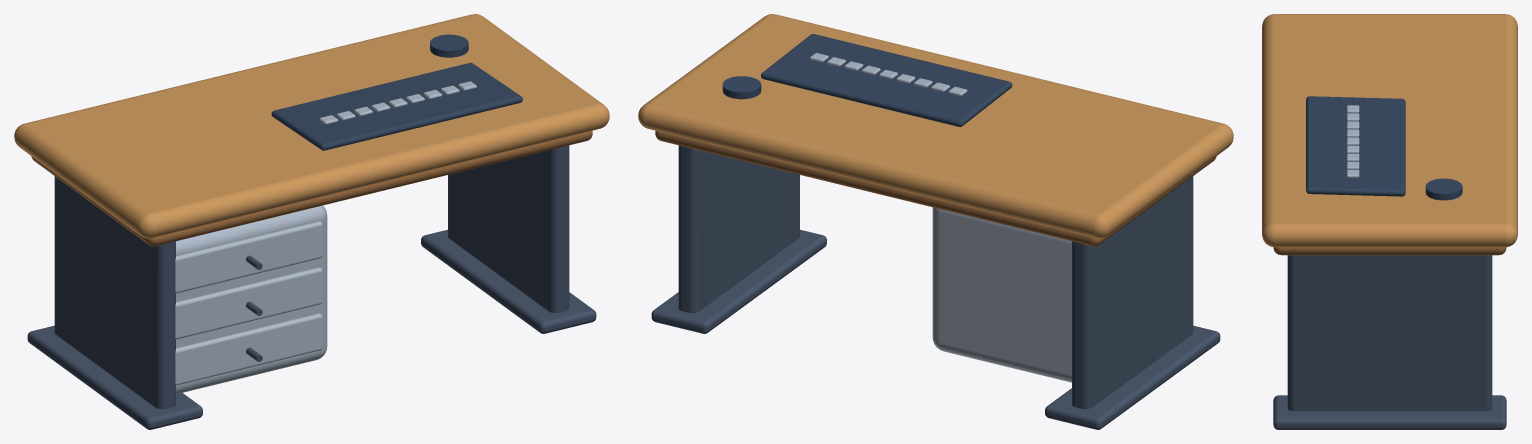
File: desk.glb
3 renders of one model, left to right at view 1: azimuth 30°, elevation 25°; view 2: azimuth 150°, elevation 25°; view 3: azimuth 270°, elevation 25°, orthographic. The views are drawn at different scales.
Visible parts, largest first — view 1: desk; view 2: desk; view 3: desk.
Boxes of the visible parts, <box> form: desk: <box>14,14,609,429</box>; desk: <box>638,14,1233,429</box>; desk: <box>1262,14,1517,429</box>.
Size of the model in its own units: 1.82 by 0.849 by 0.9.
